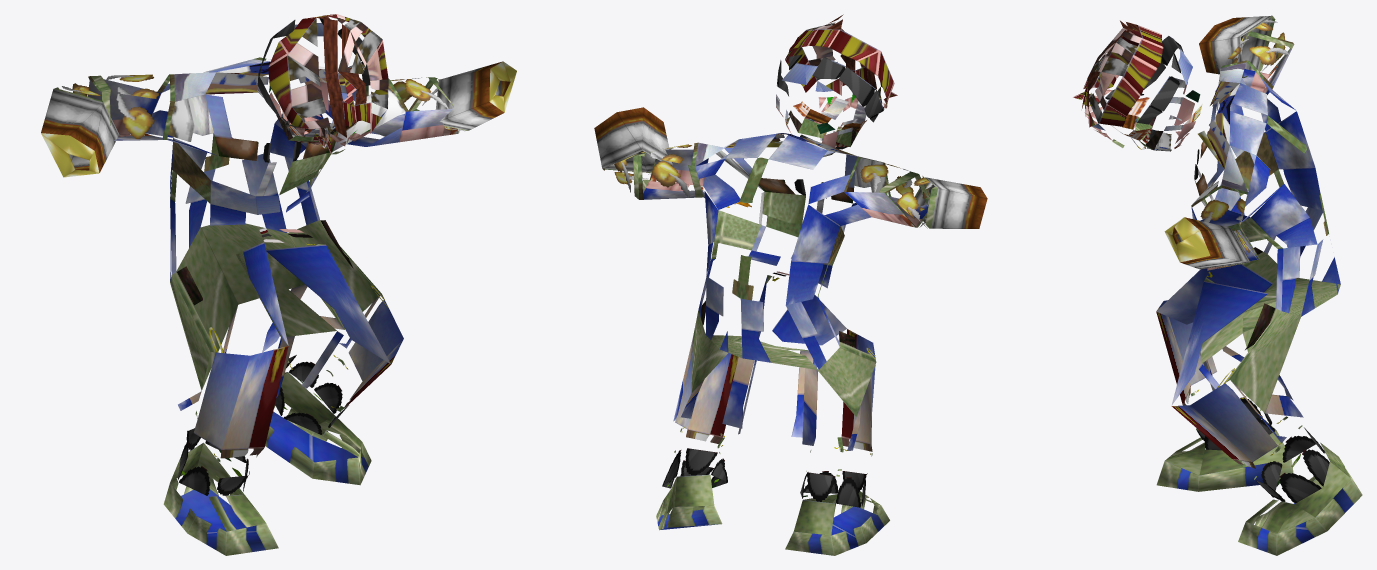
3 views of the same model, side by side, from view 1: azimuth 30°, elevation 25°; view 2: azimuth 150°, elevation 25°; view 3: azimuth 270°, elevation 25° (orthographic). The views are drawn at different scales.
Visible parts, largest first — view 1: T1L9M003_1; view 2: T1L9M003_1; view 3: T1L9M003_1.
Part boxes in pixels (box(x1,y1,x2,y2)): T1L9M003_1: box(41, 14, 516, 555); T1L9M003_1: box(594, 14, 987, 555); T1L9M003_1: box(1073, 15, 1362, 555).
Size of the model in its own units: 1.11 by 1.16 by 0.6708.
